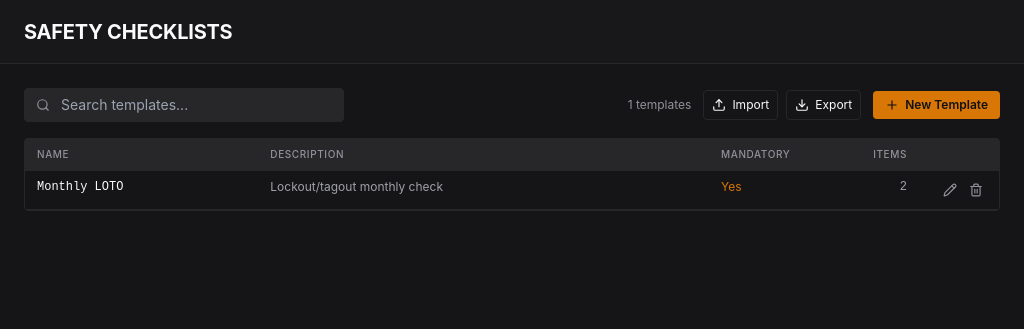
it: SafetyChecklistsPage template management (tracker v1.1-17) › deletes a template
Click the button named "delete template monthly loto".
click(976, 190)  # box [965,179,987,201]
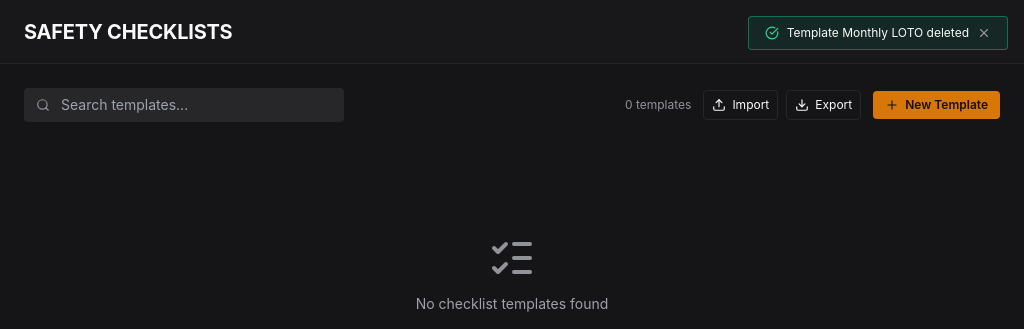
Check: the text "Template Monthly LOTO deleted" is shown, box [787,25,969,41]
